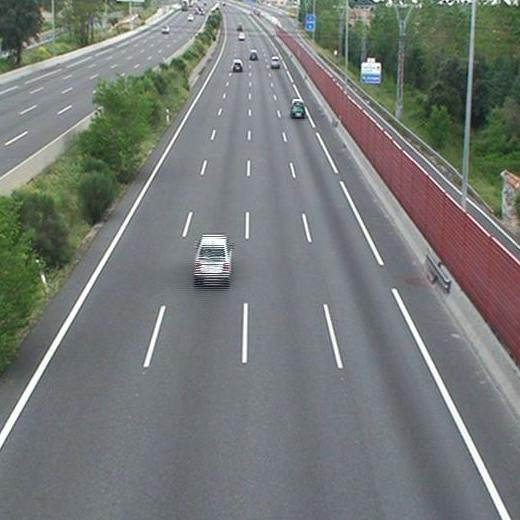car: (195, 236, 231, 281), (290, 100, 305, 117), (270, 57, 280, 68), (232, 61, 242, 71), (249, 50, 258, 60)
